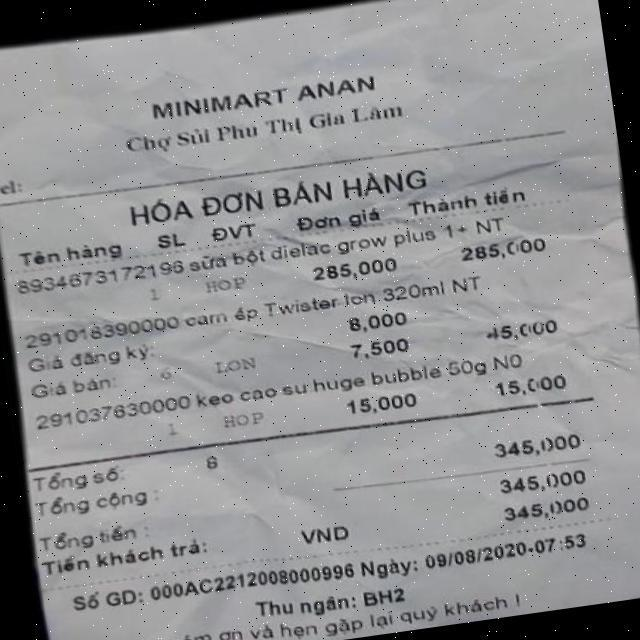Date: (424, 536, 531, 578)
Store_Name: (108, 52, 398, 138)
amount_number: (478, 422, 600, 467)
label_total: (29, 486, 158, 523)
